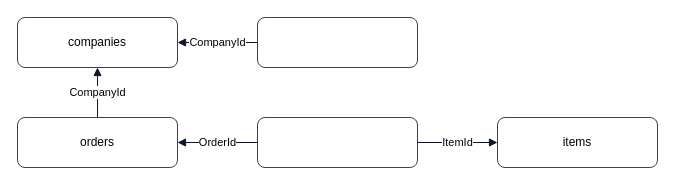
This 675x185 diagram has some shape labels left out. Here are the shapes that lost their labels. From the top down, the centre of each, then its label:
At pixel 337 42: "organizations".
At pixel 337 142: "order_lines".
